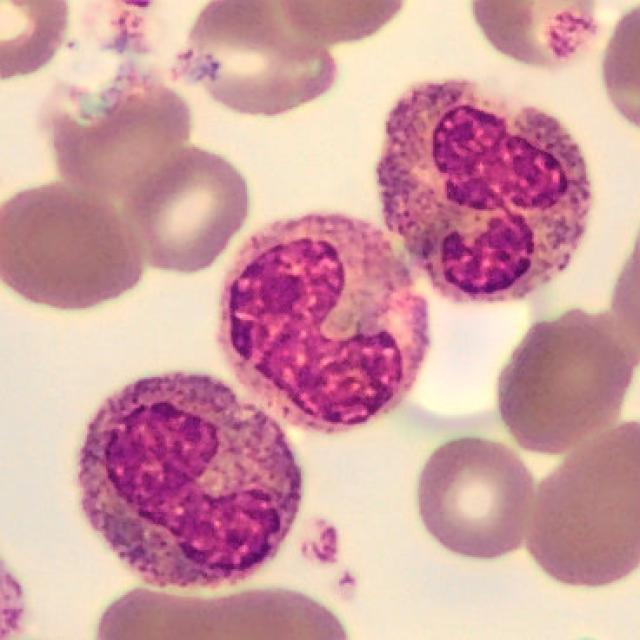Bastonete: (75, 374, 304, 590), (216, 214, 431, 432)
Neutrofilo segmentado: (376, 80, 591, 303)
